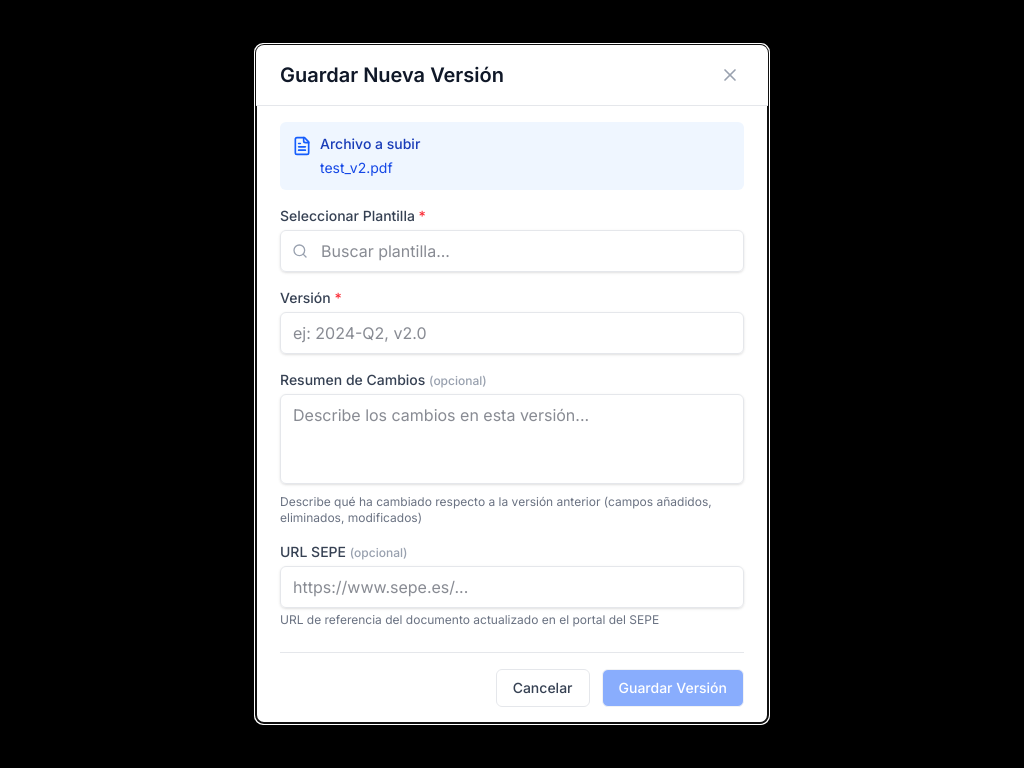
VersionUploadModal › Template Selection › should fetch and display template names when dropdown is opened
The width and height of the screenshot is (1024, 768).
Click the field with placeholder "Buscar plantilla..." at coordinates (512, 251), box [280, 230, 744, 272]
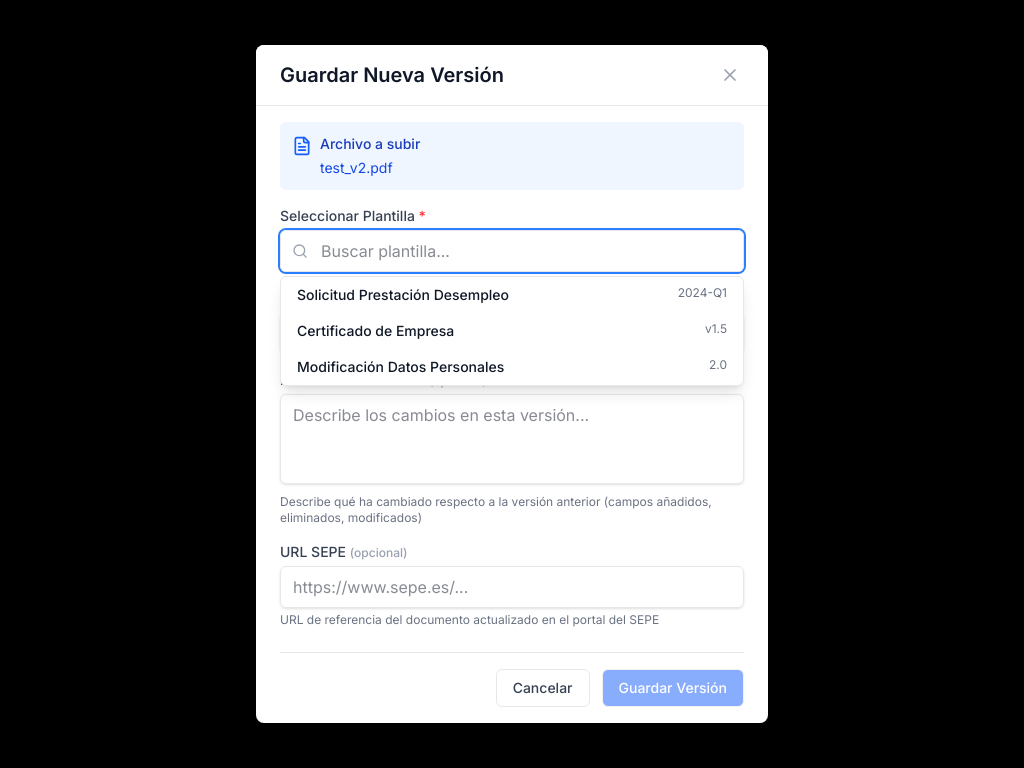
Check: the text "Solicitud Prestación Desempleo" is shown, box [297, 285, 509, 305]
Check: the text "Certificado de Empresa" is shown, box [297, 321, 454, 341]
Check: the text "Modificación Datos Personales" is shown, box [297, 357, 504, 377]
